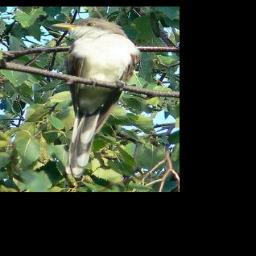Cuckoo: (52, 16, 140, 179)
